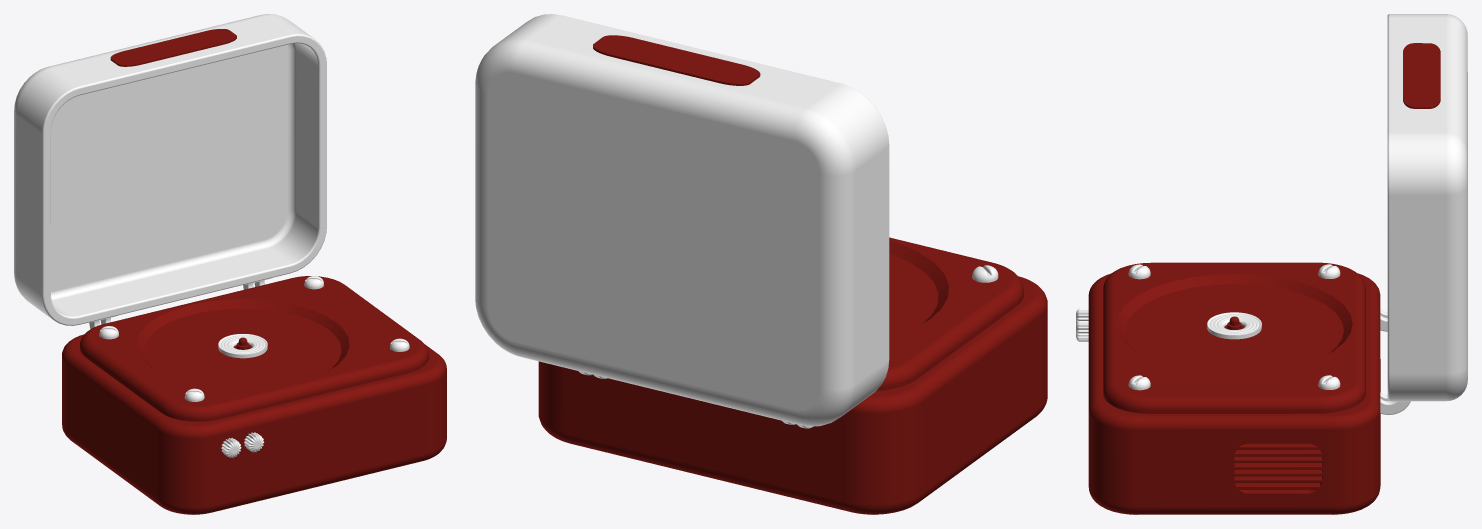
File: reco.glb
The picture shows the model from 3 angles, left to right: view 1: azimuth 30°, elevation 25°; view 2: azimuth 150°, elevation 25°; view 3: azimuth 270°, elevation 25°; orthographic projection. The views are drawn at different scales.
Visible parts, largest first — view 1: glass, body (1), body, tag.001, recode; view 2: glass, body (1), body, tag.001; view 3: body, body (1), glass, tag.001, recode.
Part boxes in pixels (x1,y1,x2,y2): glass: (14, 14, 326, 325); body (1): (62, 334, 446, 514); body: (80, 276, 428, 421); tag.001: (110, 29, 236, 66); recode: (218, 334, 267, 358); glass: (475, 14, 889, 426); body (1): (538, 276, 1047, 514); body: (876, 237, 1023, 391); tag.001: (593, 35, 760, 85); body: (1103, 262, 1365, 413); body (1): (1088, 273, 1380, 514); glass: (1387, 14, 1467, 401); tag.001: (1403, 43, 1440, 108); recode: (1207, 312, 1261, 339).
Bounding box in the file's own units: 0.7645 × 0.8851 × 0.8215.
